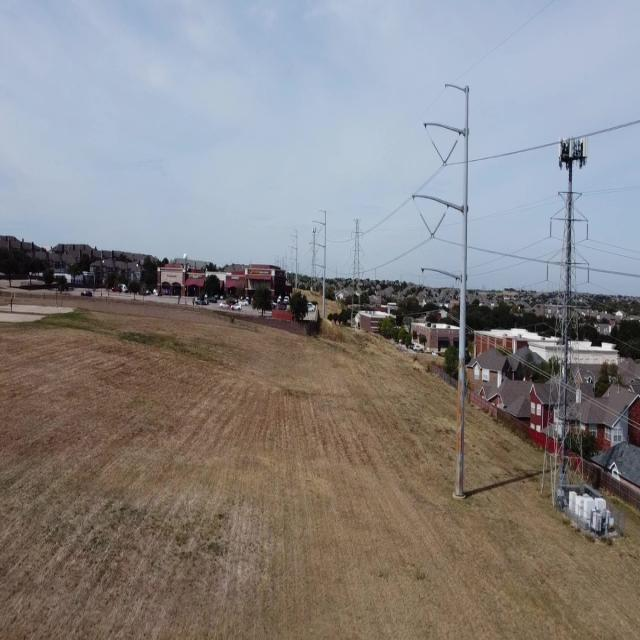杆塔: (532, 176, 603, 514), (349, 215, 366, 324)
正常绝缘子: (415, 206, 436, 241), (429, 208, 448, 243), (429, 134, 448, 168), (441, 136, 460, 168), (440, 282, 457, 311), (427, 282, 443, 312), (546, 212, 558, 249), (582, 219, 594, 252), (543, 255, 552, 287), (584, 264, 593, 292)
